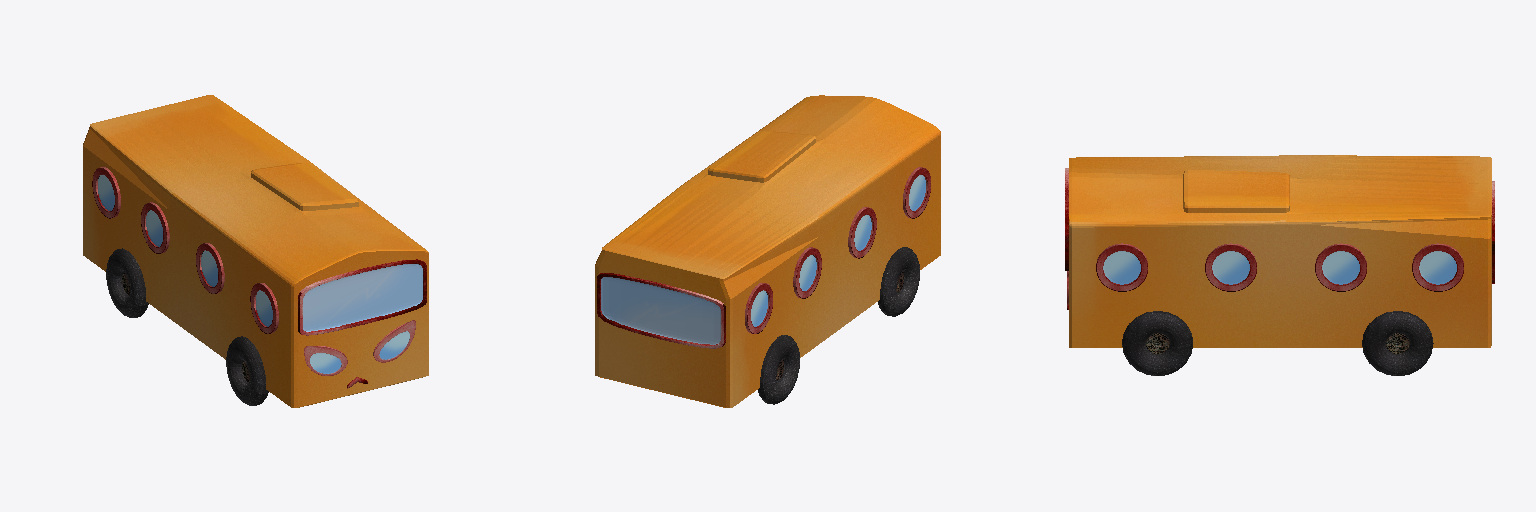
3 renders of one model, left to right at view 1: azimuth 30°, elevation 25°; view 2: azimuth 150°, elevation 25°; view 3: azimuth 270°, elevation 25°, orthographic.
Visible parts, largest first — view 1: Camion polySurface17, Camion polySurface1, polySurface29, polySurface16, Camion polySurface23, Camion polySurface25, Camion polySurface21, Camion polySurface19, Camion polySurface7, Camion polySurface11; view 2: Camion polySurface17, Camion polySurface26, polySurface29, polySurface16, Camion polySurface23, Camion polySurface21, Camion polySurface19, Camion polySurface25; view 3: Camion polySurface17, polySurface28, polySurface27, polySurface12 Camion, Camion polySurface24, Camion polySurface22, Camion polySurface20.
Boxes of the visible parts, x1=… form: Camion polySurface17: x1=83, y1=95, x2=428, y2=407; Camion polySurface1: x1=298, y1=259, x2=426, y2=335; polySurface29: x1=106, y1=248, x2=148, y2=317; polySurface16: x1=226, y1=336, x2=268, y2=405; Camion polySurface23: x1=141, y1=202, x2=169, y2=253; Camion polySurface25: x1=92, y1=167, x2=120, y2=218; Camion polySurface21: x1=196, y1=243, x2=224, y2=293; Camion polySurface19: x1=250, y1=283, x2=278, y2=333; Camion polySurface7: x1=304, y1=346, x2=347, y2=375; Camion polySurface11: x1=373, y1=320, x2=415, y2=362; Camion polySurface17: x1=595, y1=95, x2=940, y2=407; Camion polySurface26: x1=597, y1=273, x2=725, y2=348; polySurface29: x1=758, y1=335, x2=799, y2=404; polySurface16: x1=878, y1=247, x2=919, y2=316; Camion polySurface23: x1=793, y1=247, x2=821, y2=298; Camion polySurface21: x1=848, y1=207, x2=876, y2=258; Camion polySurface19: x1=903, y1=167, x2=930, y2=218; Camion polySurface25: x1=745, y1=283, x2=772, y2=333; Camion polySurface17: x1=1069, y1=155, x2=1491, y2=347; polySurface28: x1=1362, y1=311, x2=1433, y2=375; polySurface27: x1=1122, y1=311, x2=1192, y2=375; polySurface12 Camion: x1=1096, y1=243, x2=1147, y2=291; Camion polySurface24: x1=1412, y1=243, x2=1463, y2=291; Camion polySurface22: x1=1315, y1=243, x2=1366, y2=291; Camion polySurface20: x1=1205, y1=243, x2=1256, y2=291.
Size of the model in its own units: 6.73 by 7.17 by 16.24.
Materials: 4 (4 with a texture image).